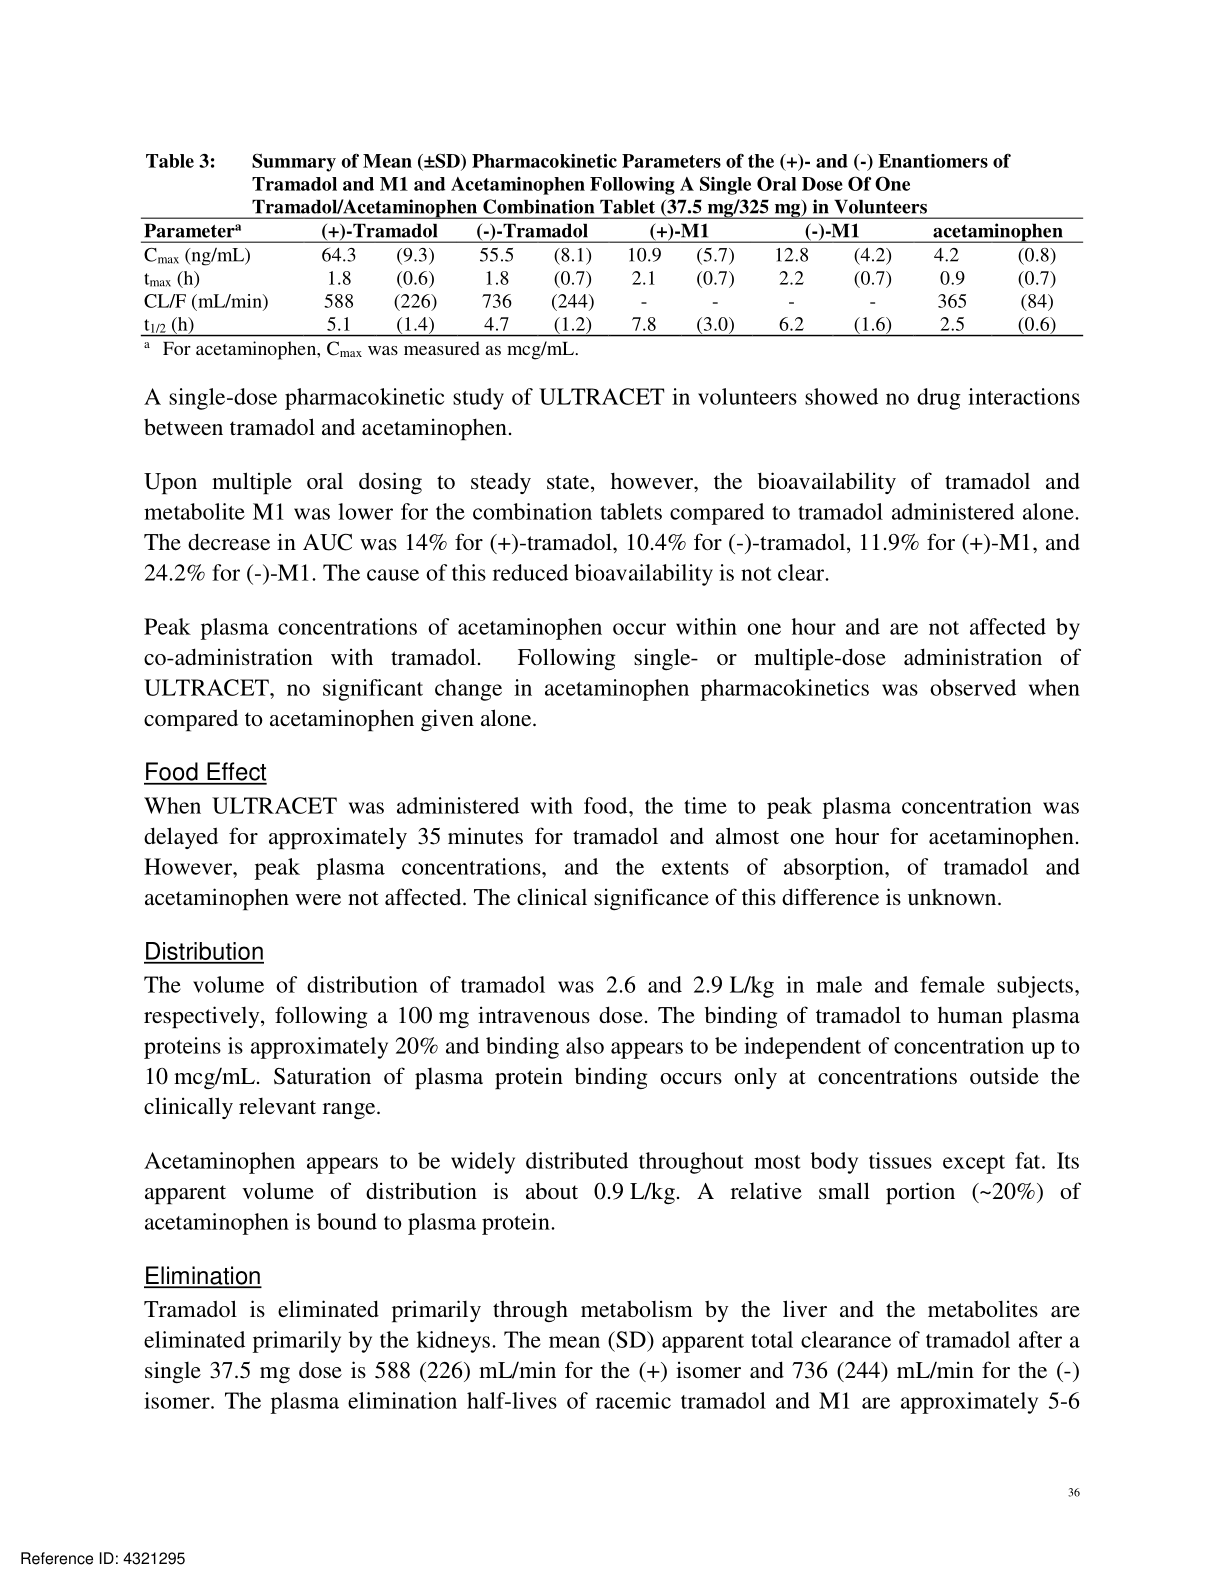partial_lined_merged_cells: (141, 217, 1089, 339)
